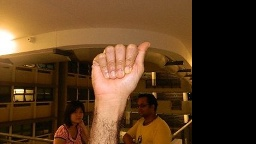Pugno: (87, 40, 151, 94)
